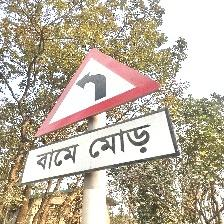Left-Turn: (23, 49, 177, 188)
